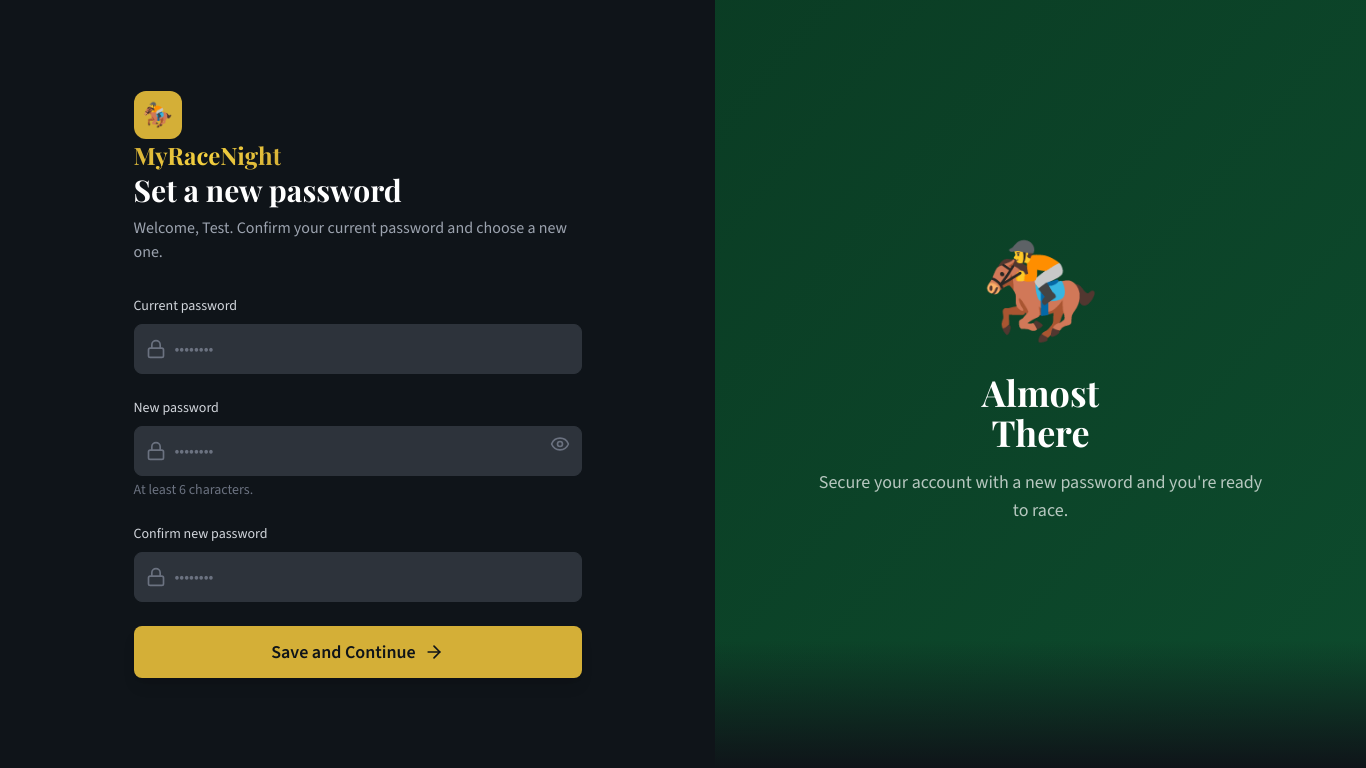
outcomes › surfaces a backend error and does not redirect
The width and height of the screenshot is (1366, 768).
In the 1st password field with placeholder "••••••••": [358, 348] box x1=134 y1=324 x2=582 y2=374, type "wrong-password"
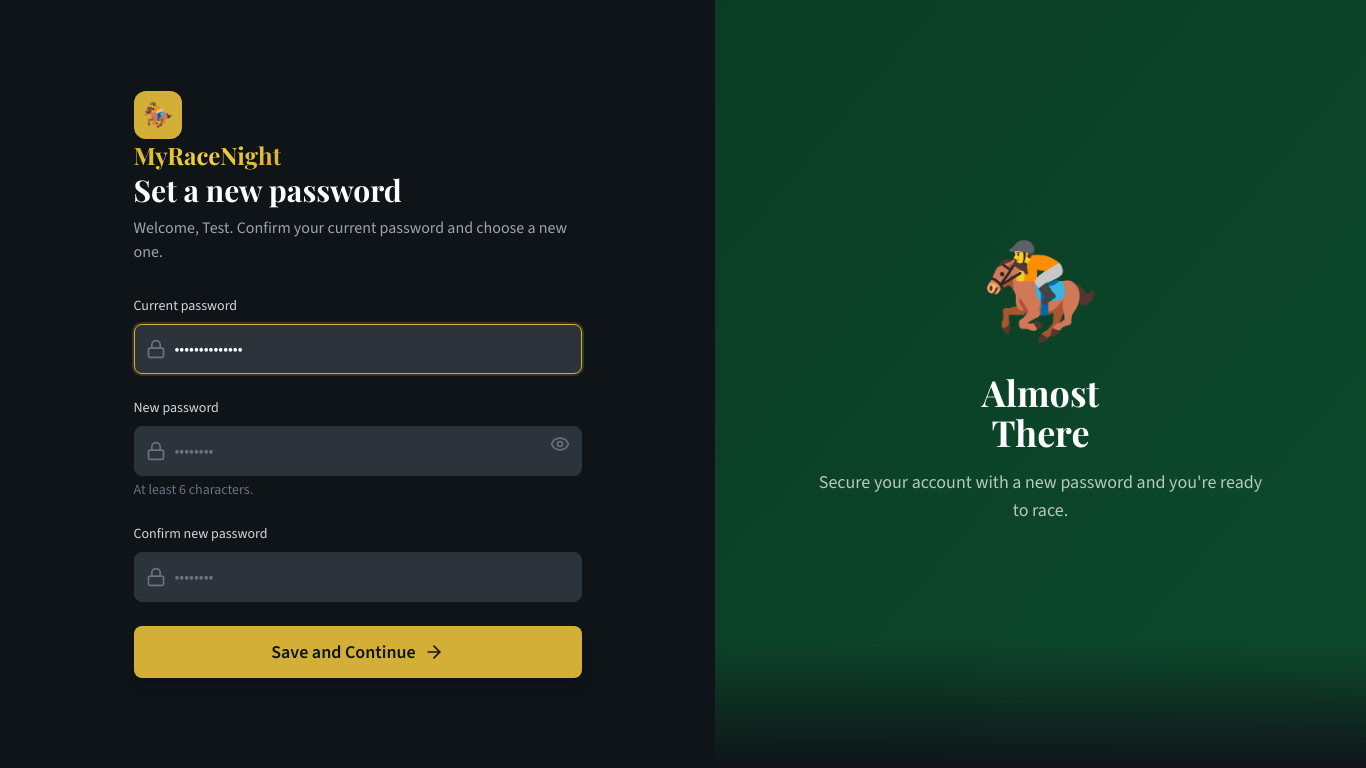
In the 1st password field with placeholder "••••••••": [358, 450] box x1=134 y1=426 x2=582 y2=476, type "new-password"
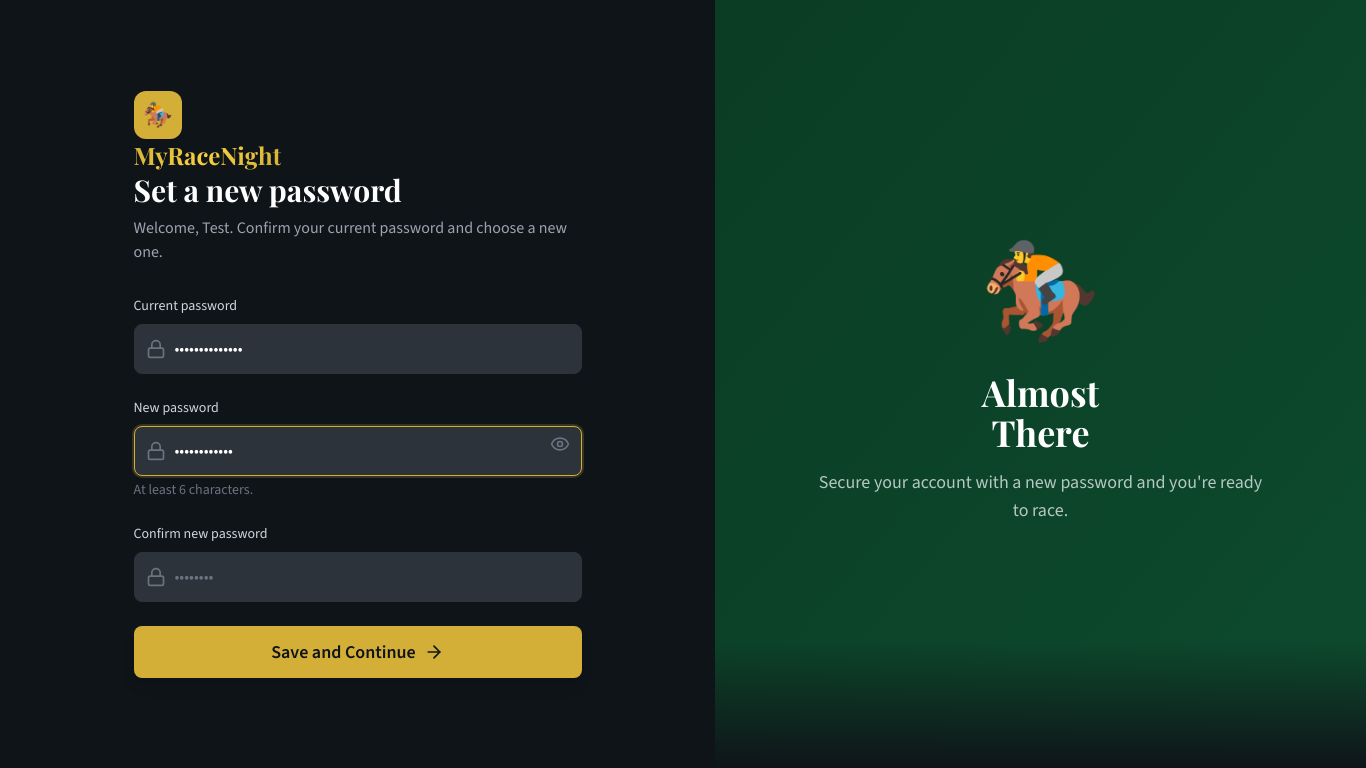
In the password field with placeholder "••••••••": [358, 576] box x1=134 y1=552 x2=582 y2=602, type "new-password"
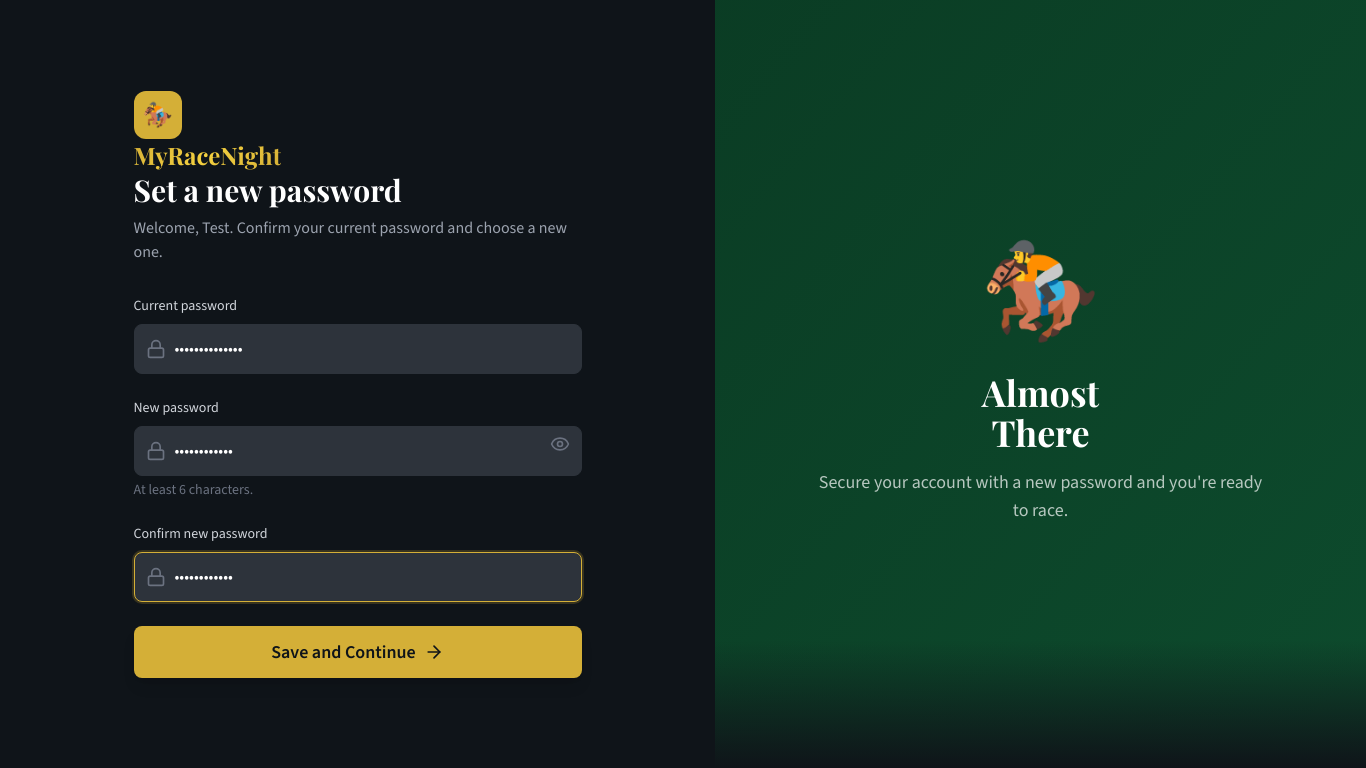
Submit the form, box x1=134 y1=296 x2=582 y2=678
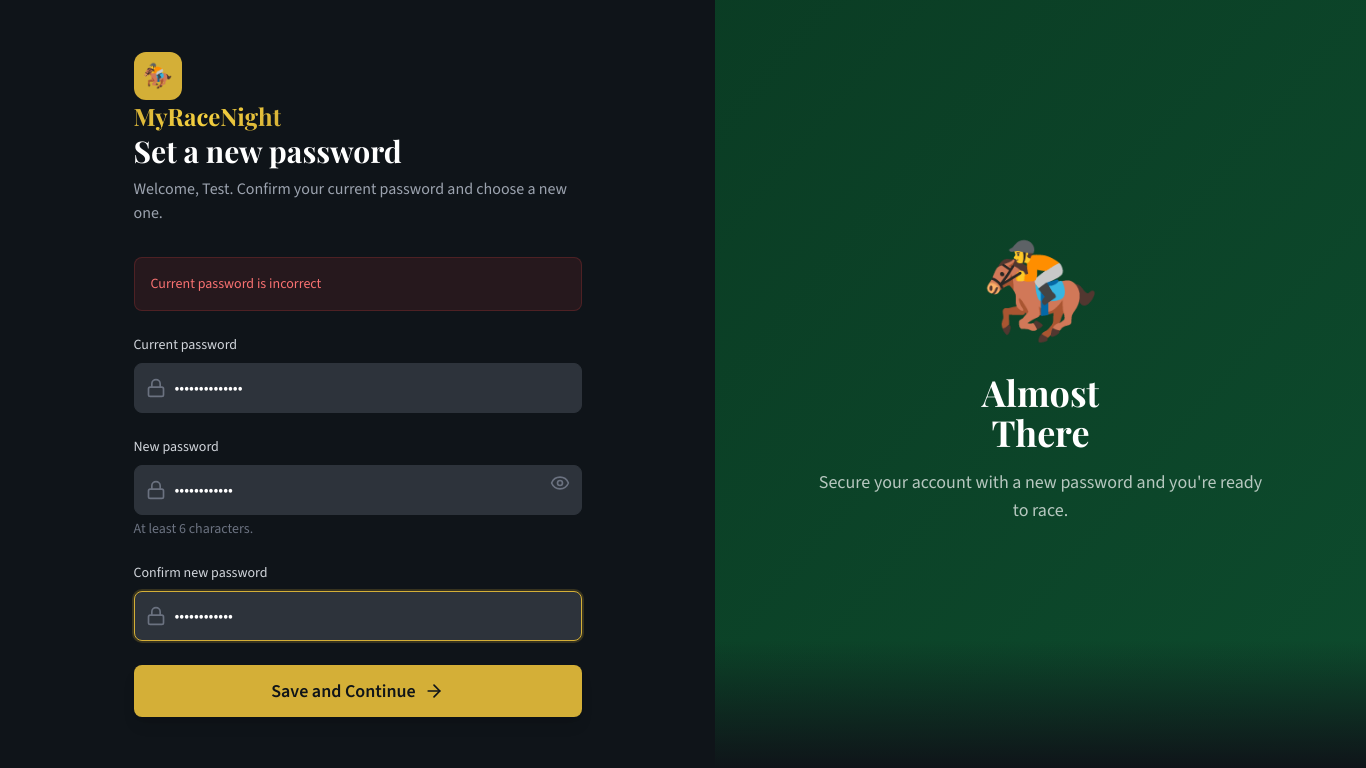
Expected: the text "Current password is incorrect" is shown, x1=134 y1=256 x2=582 y2=310
